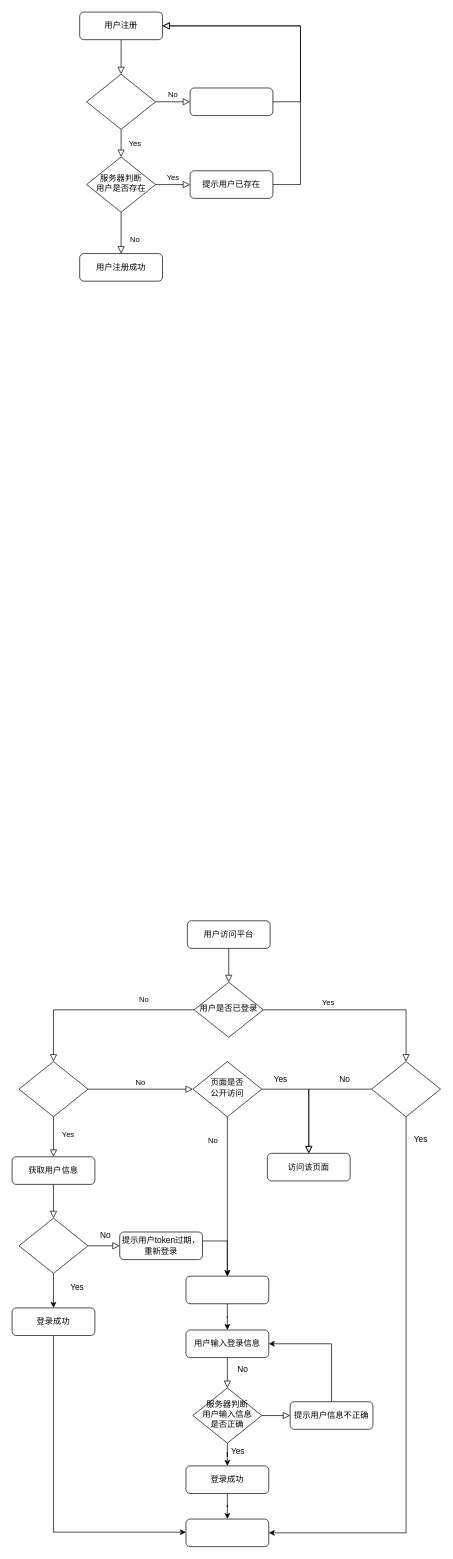
This 453x1559 diagram has some shape labels left out. Each missing label, with the box of its shape:
前端判断注 册信息是否合法: (86, 73, 156, 129)
提示输入信息错误: (189, 87, 273, 116)
是否需要跳转: (371, 1061, 441, 1117)
用户是否有token: (18, 1061, 88, 1117)
获取是否成功: (18, 1218, 88, 1273)
跳转至Home页: (185, 1518, 269, 1547)
跳转至登录页: (185, 1275, 269, 1304)
